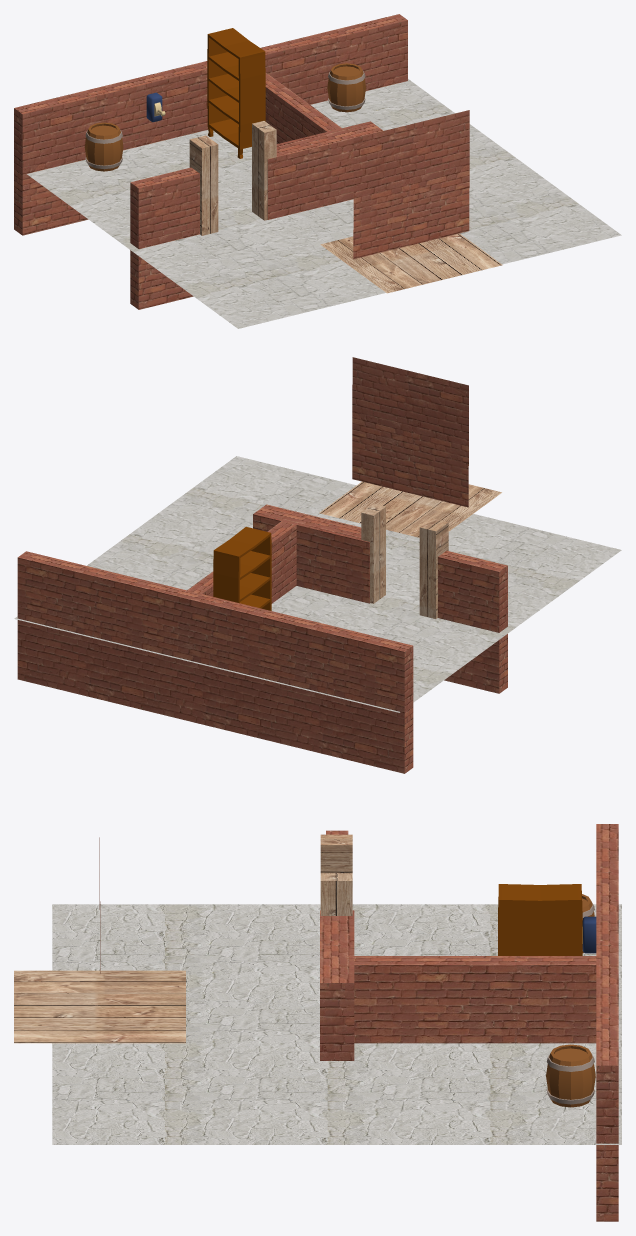
The model's file is brickwall.glb.
3 renders of one model, top to bottom at view 1: azimuth 30°, elevation 25°; view 2: azimuth 150°, elevation 25°; view 3: azimuth 270°, elevation 25°, orthographic. The views are drawn at different scales.
Visible parts, largest first — view 1: Plane, Cube.005, Plane.002, Cube.004, Cube.001, shelf_style, Plane.001, Cube.006, Cube.003, Cube.002, barrel.001, barrel (+1 smaller); view 2: Cube.005, Plane, Plane.002, Cube.004, Cube.001, Plane.001, shelf_style, Cube.006, Cube.003, Cube.002, Cube; view 3: Plane, Cube.006, Plane.001, Cube.005, shelf_style, Cube.001, Cube, barrel, Cube.002, Cube.003.
Part boxes in pixels (<box>): Plane: <box>27,79,621,328</box>; Cube.005: <box>14,14,407,235</box>; Plane.002: <box>353,110,469,259</box>; Cube.004: <box>130,167,199,309</box>; Cube.001: <box>267,121,383,219</box>; shelf_style: <box>207,28,265,158</box>; Plane.001: <box>320,233,502,293</box>; Cube.006: <box>265,72,341,143</box>; Cube.003: <box>189,135,218,235</box>; Cube.002: <box>252,121,276,220</box>; barrel.001: <box>84,122,123,171</box>; barrel: <box>327,63,365,112</box>; Cube.005: <box>17,551,413,773</box>; Plane: <box>14,456,621,712</box>; Plane.002: <box>352,357,468,507</box>; Cube.004: <box>438,550,507,693</box>; Cube.001: <box>253,504,369,603</box>; Plane.001: <box>319,481,501,537</box>; shelf_style: <box>213,527,271,610</box>; Cube.006: <box>187,521,296,603</box>; Cube.003: <box>419,518,448,618</box>; Cube.002: <box>361,503,385,603</box>; Cube: <box>255,506,361,537</box>; Plane: <box>52,904,621,1144</box>; Cube.006: <box>347,956,598,1043</box>; Plane.001: <box>14,970,185,1043</box>; Cube.005: <box>596,824,618,1221</box>; shelf_style: <box>498,884,582,955</box>; Cube.001: <box>320,910,354,1060</box>; Cube: <box>326,916,348,1060</box>; barrel: <box>546,1044,595,1107</box>; Cube.002: <box>320,873,352,915</box>; Cube.003: <box>320,834,352,873</box>.
Bounding box in the file's own units: 6.69 × 3.38 × 7.07.
11 materials, 4 textured.
